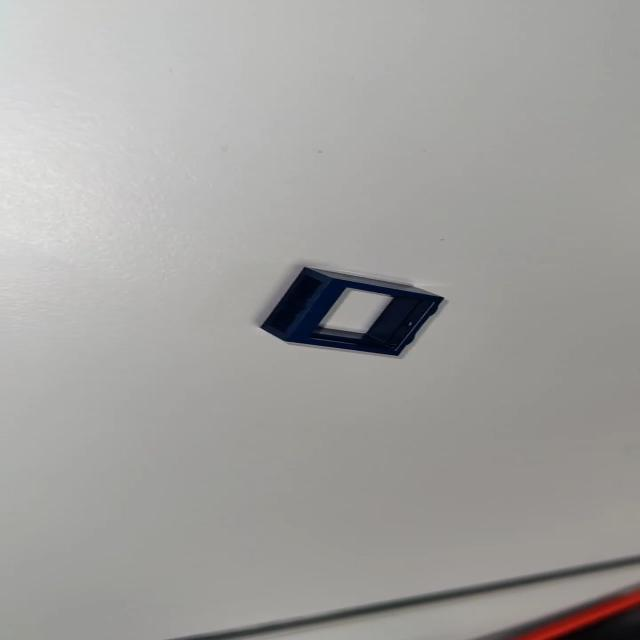W2x1x2: (262, 265, 452, 363)
